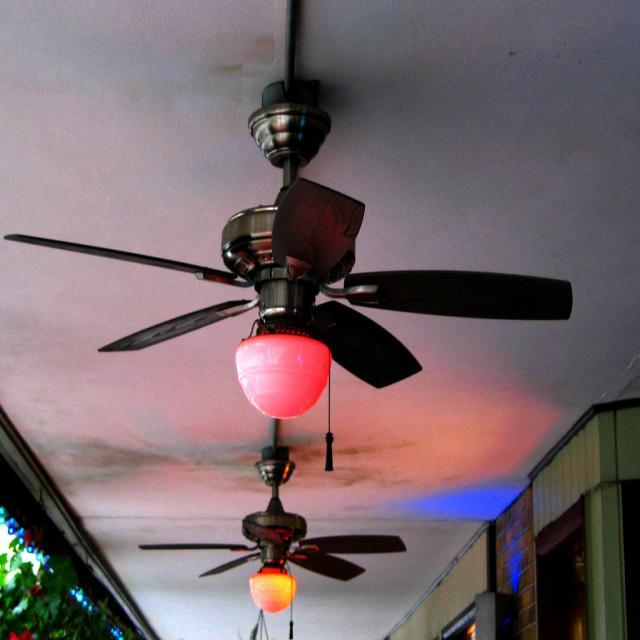fan_off: (3, 108, 572, 389), (138, 460, 406, 582)
